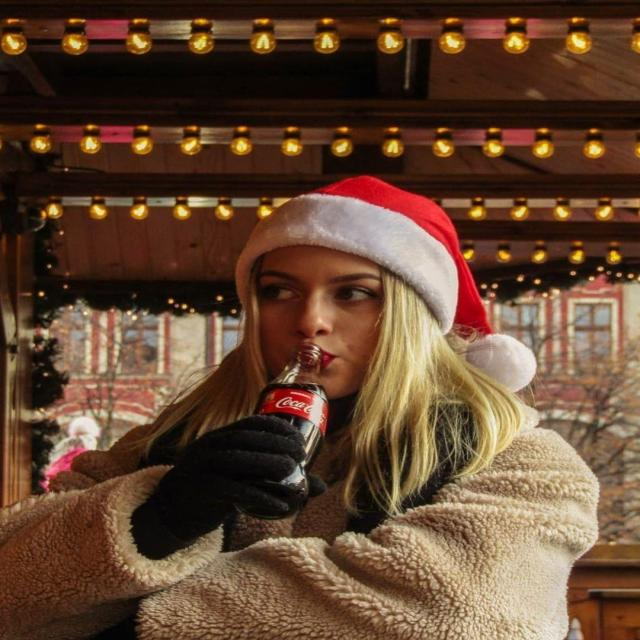coca-cola: (234, 341, 333, 522)
